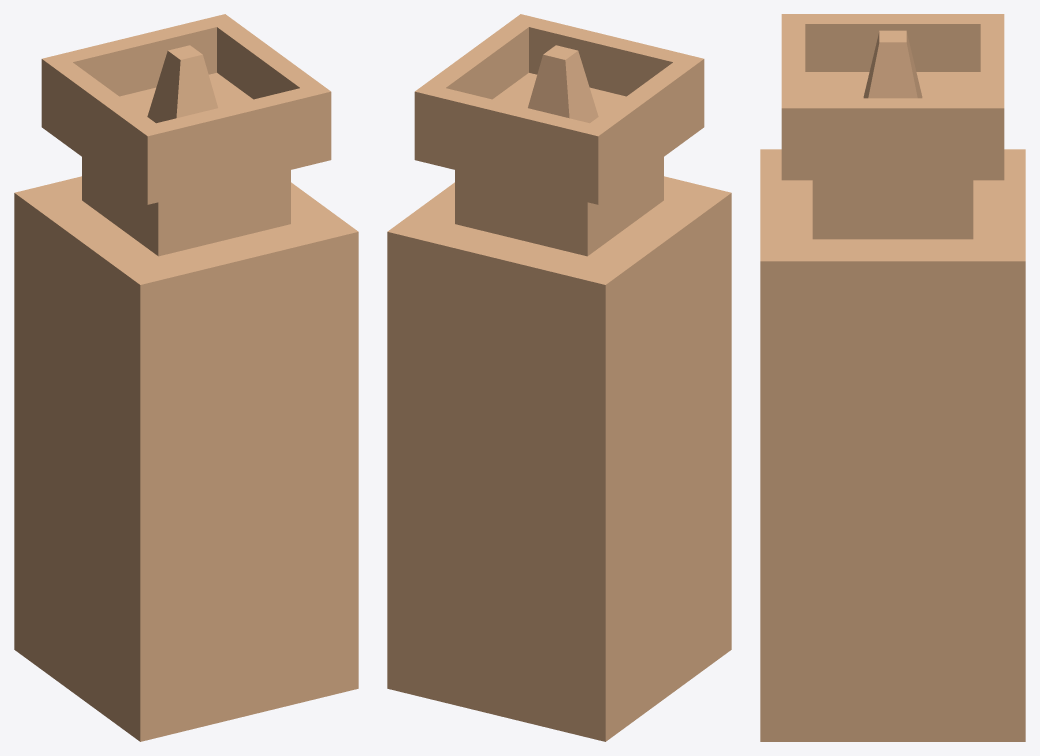
The model's file is king_white.fbx.
The picture shows the model from 3 angles, left to right: view 1: azimuth 30°, elevation 25°; view 2: azimuth 150°, elevation 25°; view 3: azimuth 270°, elevation 25°; orthographic projection. The views are drawn at different scales.
Visible parts, largest first — view 1: Cube.002; view 2: Cube.002; view 3: Cube.002.
Part boxes in pixels (x1,y1,x2,y2): Cube.002: [14, 14, 358, 741]; Cube.002: [387, 14, 731, 741]; Cube.002: [760, 14, 1025, 741].
Bounding box in the file's own units: 2.8 × 7.55 × 2.8.
